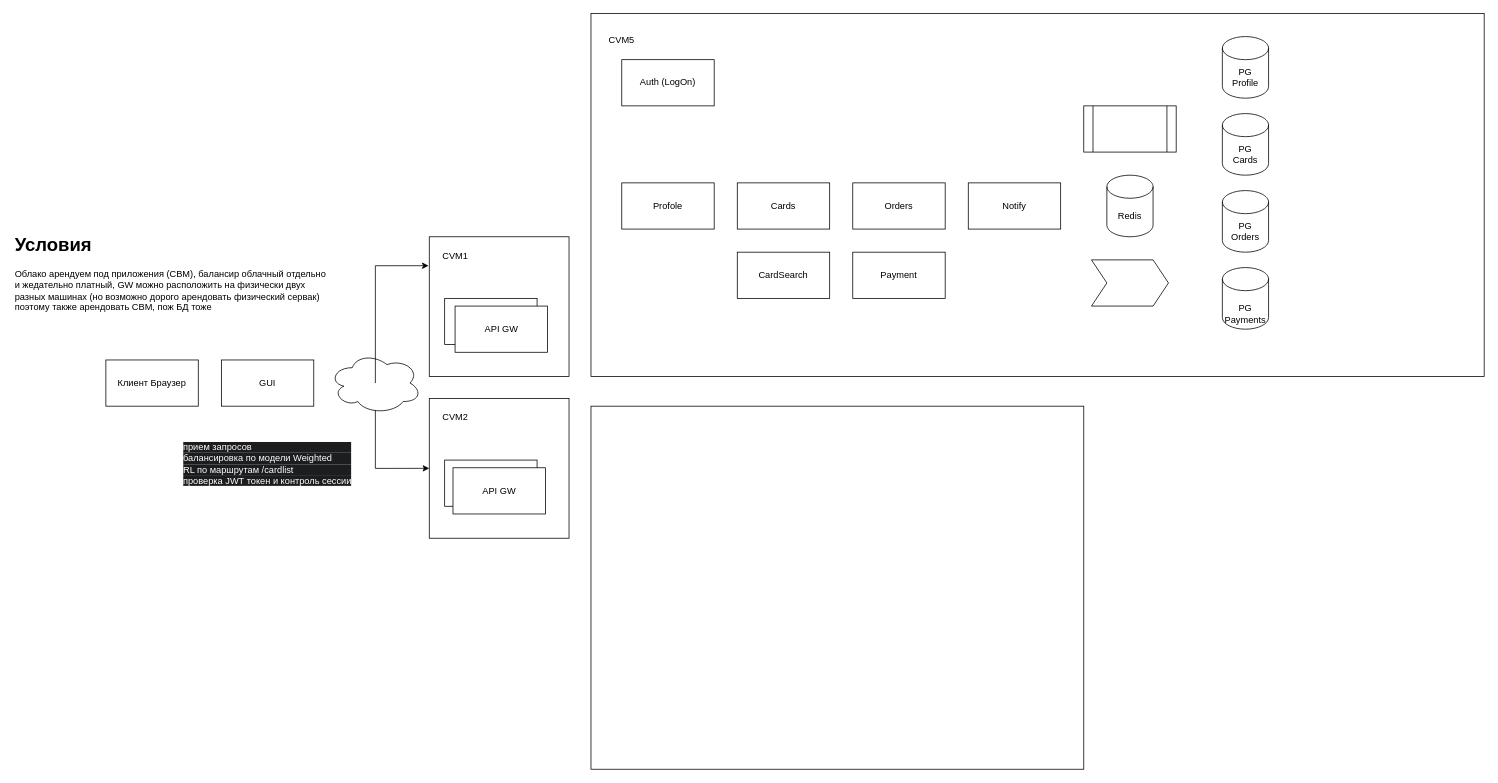
Image size: 1498x783. Some labels were removed from this diagram. Each missing label, with the box of its shape:
CVM4: (590, 405, 1084, 769)
ELK: (1091, 259, 1168, 306)
Kafka: (1083, 105, 1176, 152)
балансир в облаке: (328, 352, 422, 414)
